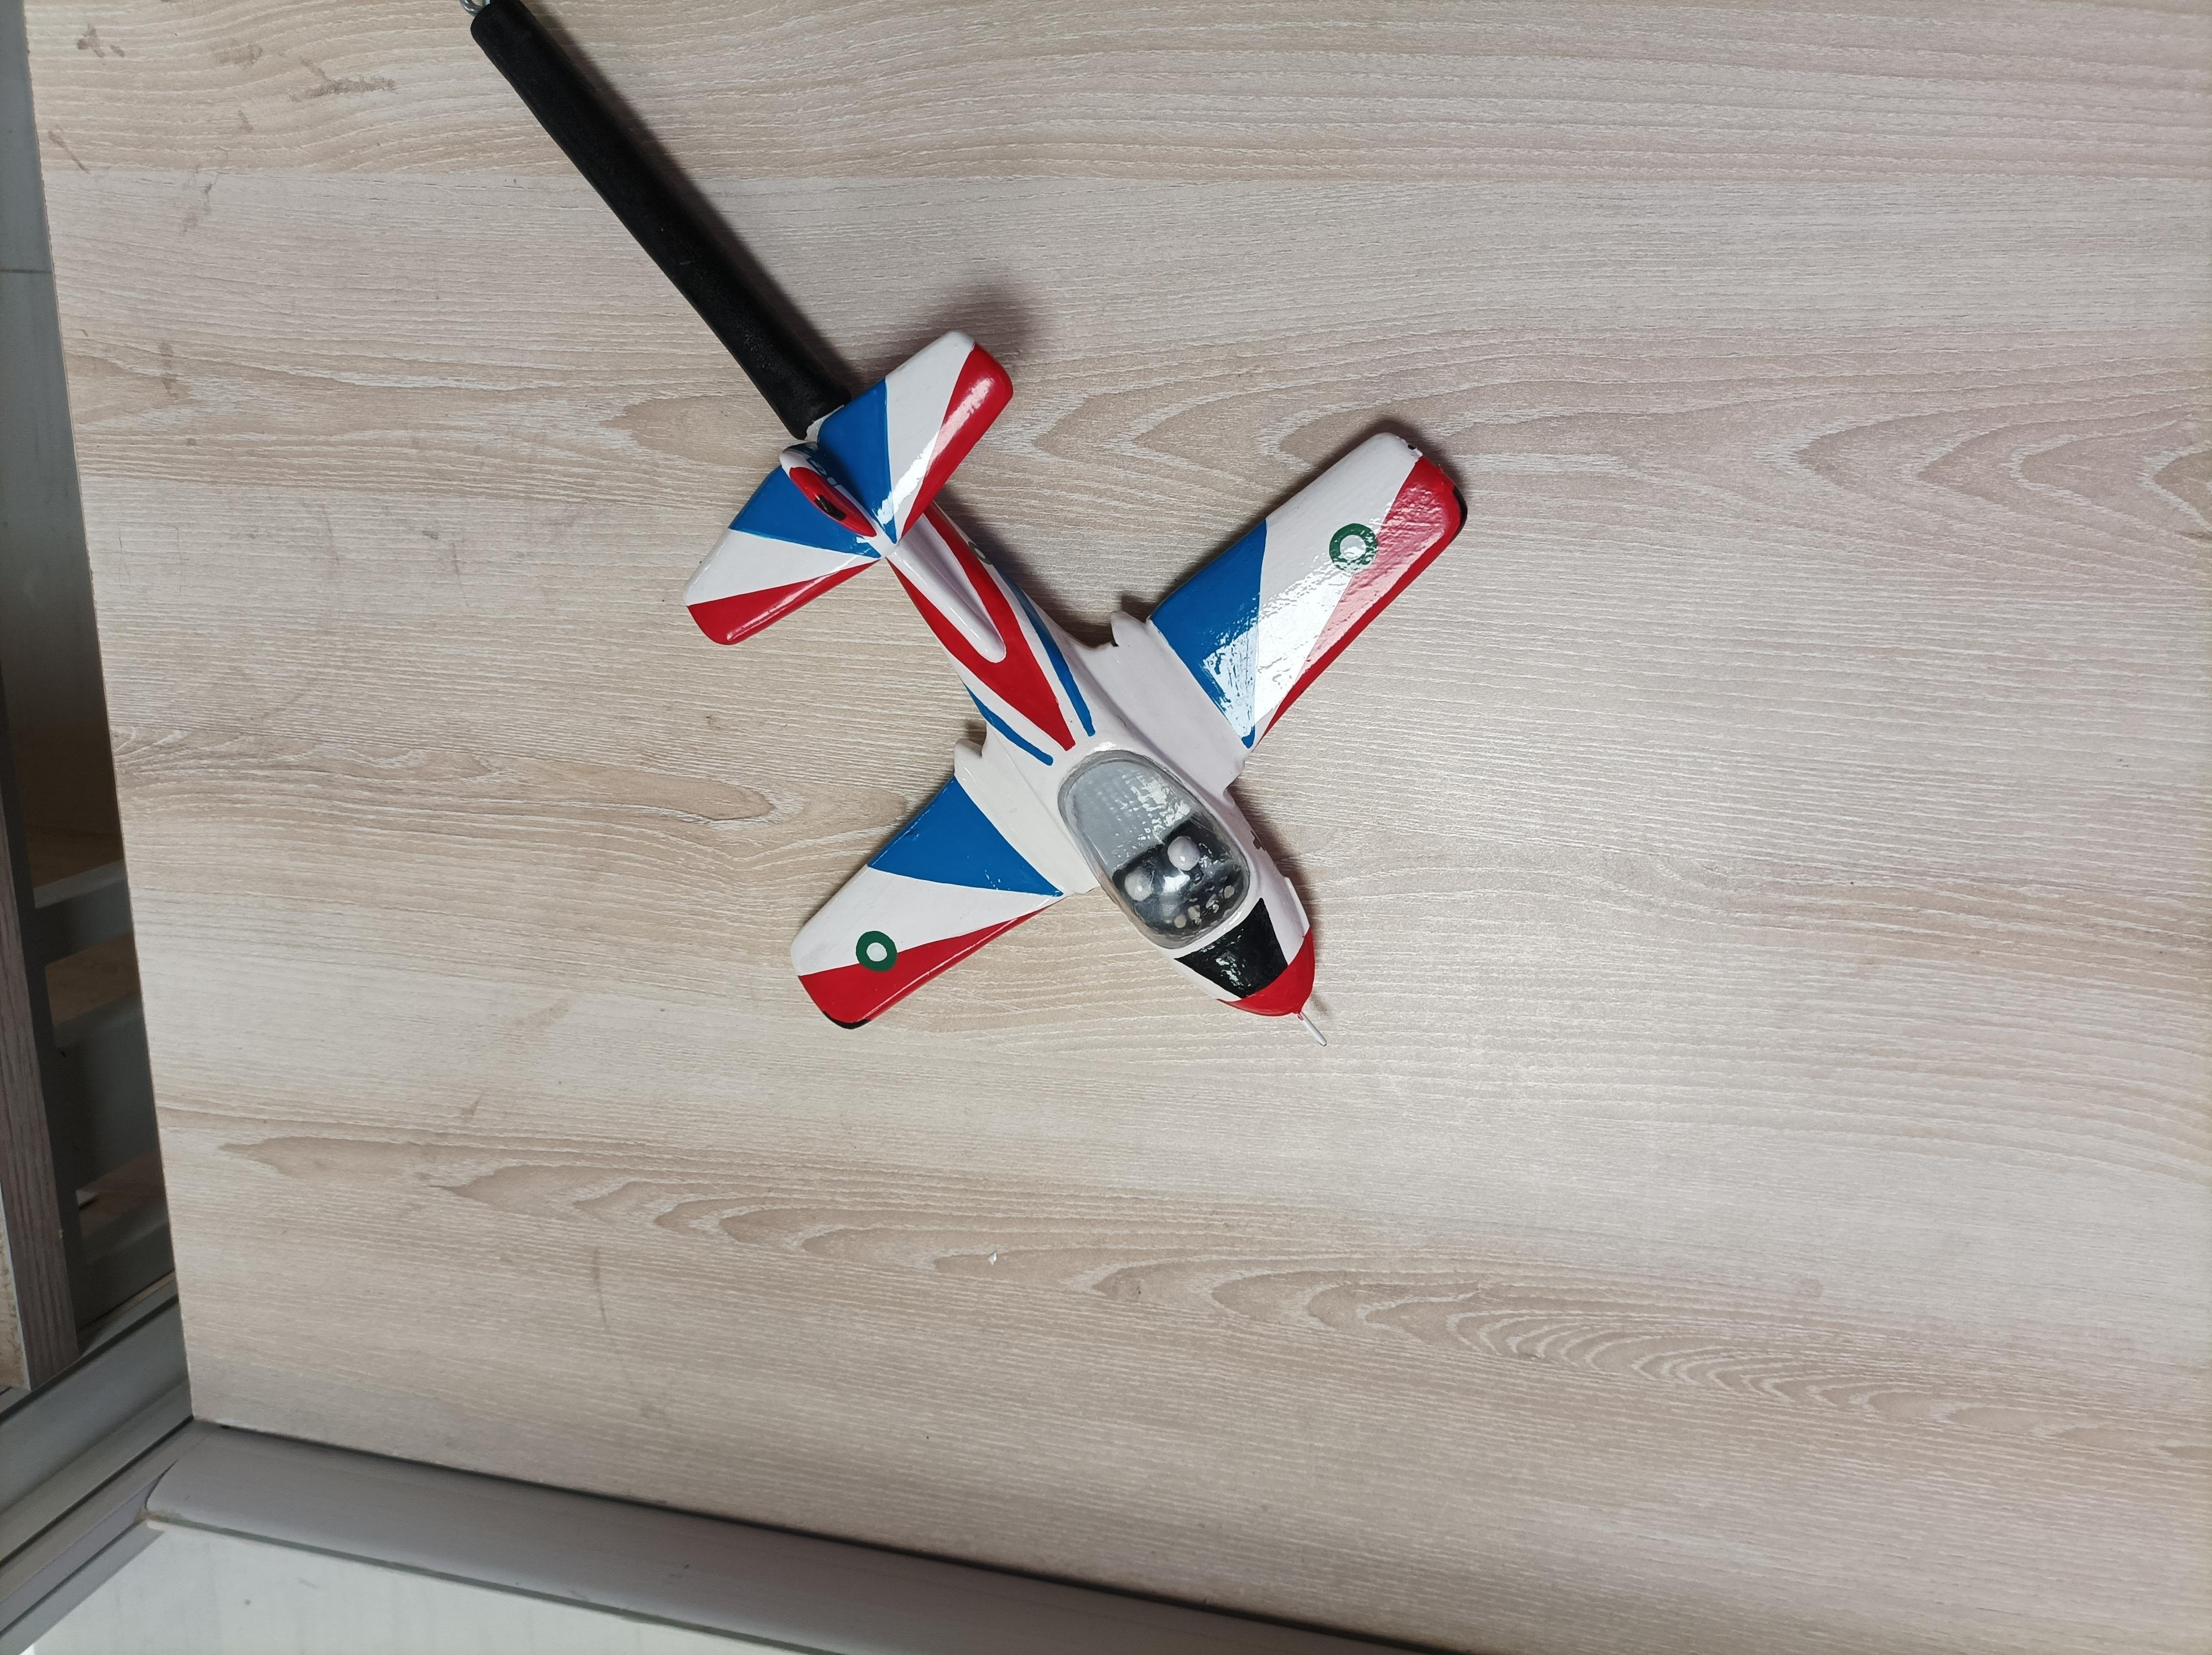Airplane: (666, 308, 1493, 1106)
